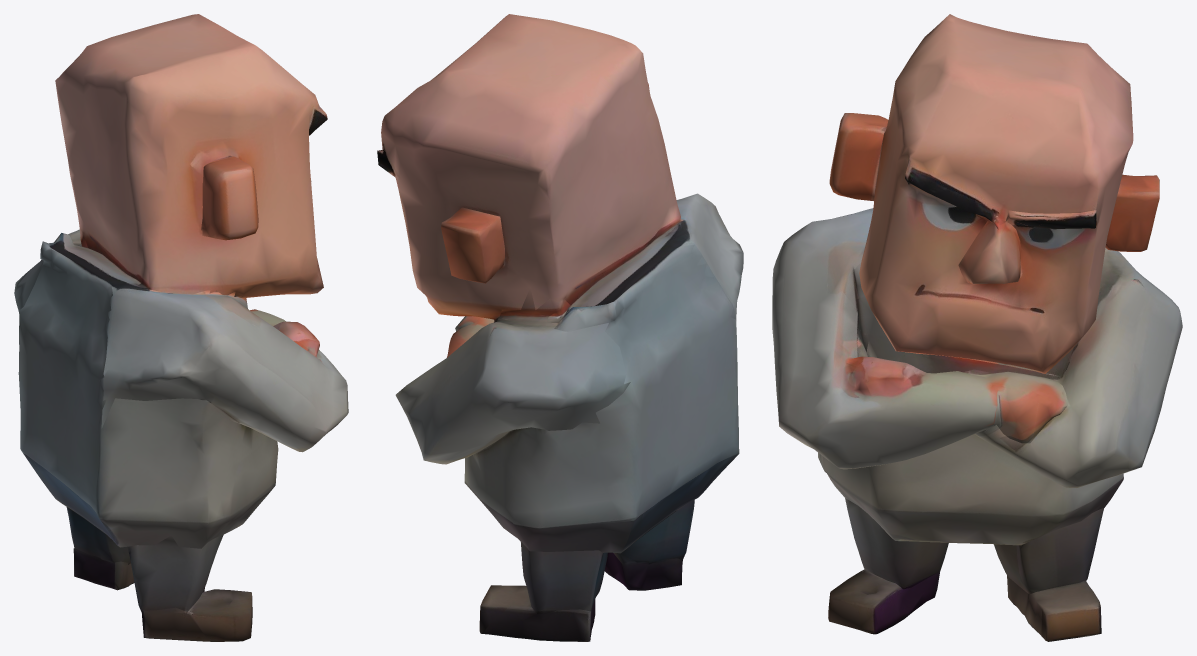
Rendered from nasty-guy.glb.
3 views of the same model, side by side, from view 1: azimuth 30°, elevation 25°; view 2: azimuth 150°, elevation 25°; view 3: azimuth 270°, elevation 25° (orthographic). The views are drawn at different scales.
Parts seen in each view (by area): view 1: tripo_part_6, tripo_part_5, tripo_part_1, tripo_part_3, tripo_part_2, tripo_part_0, tripo_part_8, tripo_part_10, tripo_part_11; view 2: tripo_part_6, tripo_part_5, tripo_part_11, tripo_part_1, tripo_part_8, tripo_part_10, tripo_part_12, tripo_part_3, tripo_part_2; view 3: tripo_part_6, tripo_part_1, tripo_part_11, tripo_part_5, tripo_part_8, tripo_part_2, tripo_part_3, tripo_part_10, tripo_part_0, tripo_part_4, tripo_part_12, tripo_part_7 (+1 smaller).
Part boxes in pixels (x1,y1,x2,y2): tripo_part_6: [55, 14, 327, 297]; tripo_part_5: [18, 231, 278, 548]; tripo_part_1: [99, 283, 348, 452]; tripo_part_3: [127, 535, 223, 611]; tripo_part_2: [140, 589, 252, 641]; tripo_part_0: [201, 155, 258, 240]; tripo_part_8: [66, 507, 130, 564]; tripo_part_10: [73, 548, 134, 590]; tripo_part_11: [14, 229, 81, 310]; tripo_part_6: [381, 14, 682, 319]; tripo_part_5: [464, 229, 739, 553]; tripo_part_11: [395, 287, 630, 464]; tripo_part_1: [447, 193, 743, 357]; tripo_part_8: [521, 542, 607, 614]; tripo_part_10: [479, 585, 595, 641]; tripo_part_12: [441, 207, 504, 283]; tripo_part_3: [613, 500, 694, 564]; tripo_part_2: [604, 552, 682, 590]; tripo_part_6: [859, 14, 1133, 373]; tripo_part_1: [772, 208, 1067, 469]; tripo_part_11: [975, 250, 1182, 487]; tripo_part_5: [818, 248, 1123, 545]; tripo_part_8: [994, 508, 1103, 593]; tripo_part_2: [828, 569, 939, 634]; tripo_part_3: [845, 498, 948, 589]; tripo_part_10: [1006, 574, 1101, 641]; tripo_part_0: [829, 113, 886, 200]; tripo_part_4: [853, 263, 1080, 380]; tripo_part_12: [1105, 174, 1159, 251]; tripo_part_7: [958, 217, 1020, 284].
Size of the model in its own units: 0.4939 by 1 by 0.6378.
13 materials, 13 textured.
